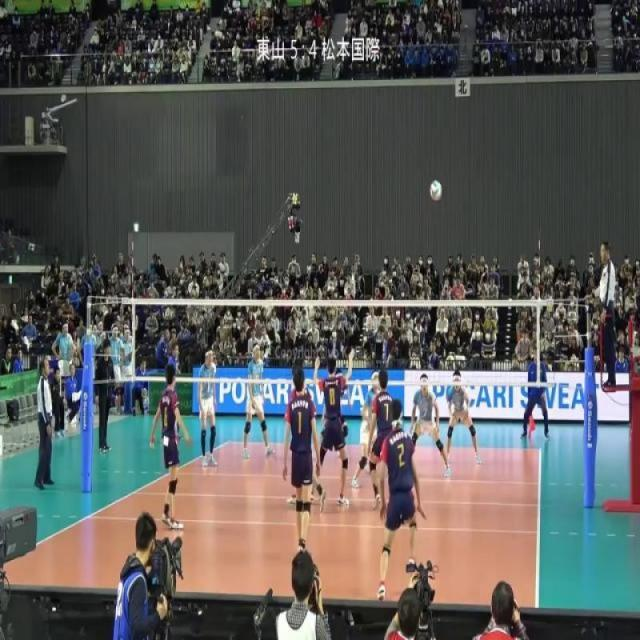volleyball: (430, 179, 442, 201)
